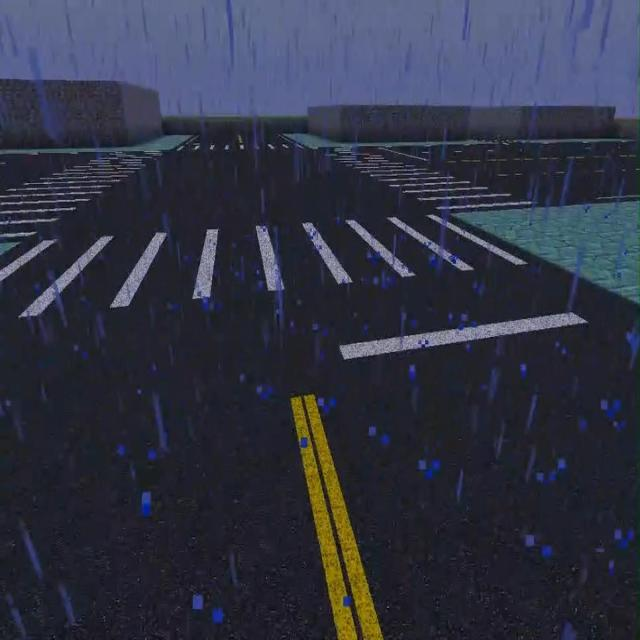8: (0, 218, 547, 321), (312, 148, 543, 211), (0, 151, 162, 240), (169, 142, 311, 152)
crosswalk: (0, 272, 639, 639), (29, 154, 443, 240), (373, 144, 636, 201), (163, 122, 308, 143), (0, 155, 97, 186)
road: (448, 200, 639, 302), (0, 134, 192, 154), (286, 133, 493, 146), (513, 138, 637, 144), (0, 242, 19, 255)
